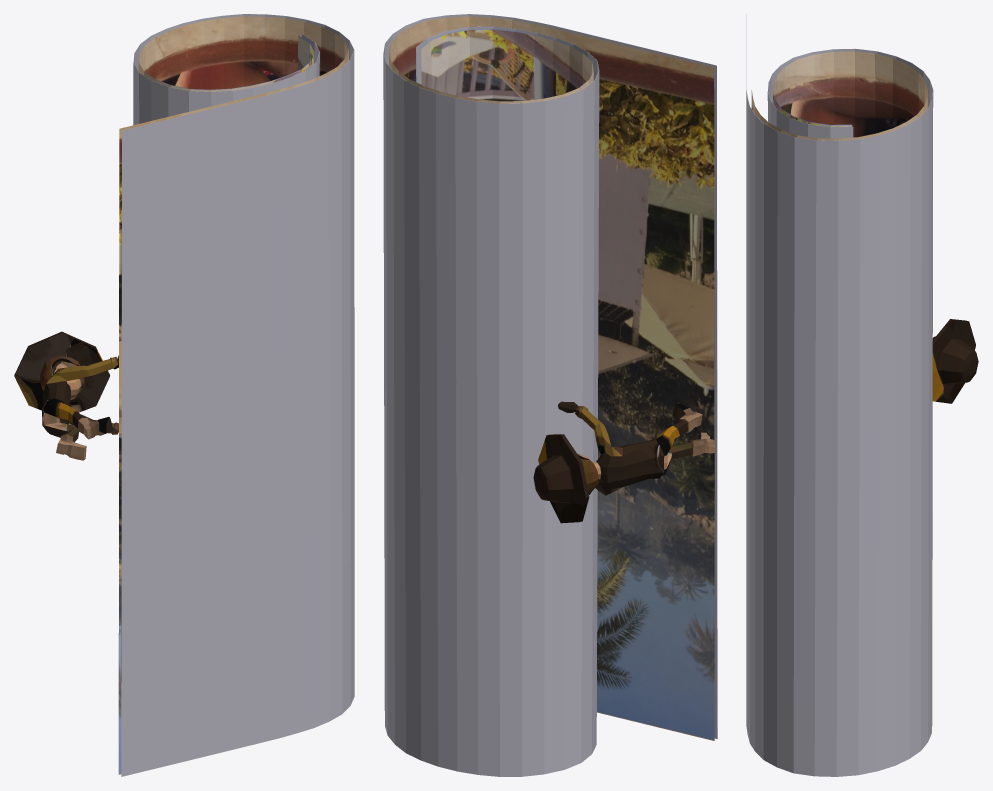
File: start_file2_000025.obj
3 renders of one model, left to right at view 1: azimuth 30°, elevation 25°; view 2: azimuth 150°, elevation 25°; view 3: azimuth 270°, elevation 25°, orthographic. The views are drawn at different scales.
Visible parts, largest first — view 1: Cube_Cube.001, Character_Cube; view 2: Cube_Cube.001, Character_Cube; view 3: Cube_Cube.001, Character_Cube.
Part boxes in pixels (x1,y1,x2,y2): Cube_Cube.001: (118, 14, 354, 776); Character_Cube: (14, 331, 118, 460); Cube_Cube.001: (383, 14, 717, 776); Character_Cube: (533, 401, 715, 523); Cube_Cube.001: (746, 14, 933, 776); Character_Cube: (932, 319, 978, 403).
Size of the model in its own units: 0.7326 by 1.52 by 0.5044.
2 materials, 2 textured.
